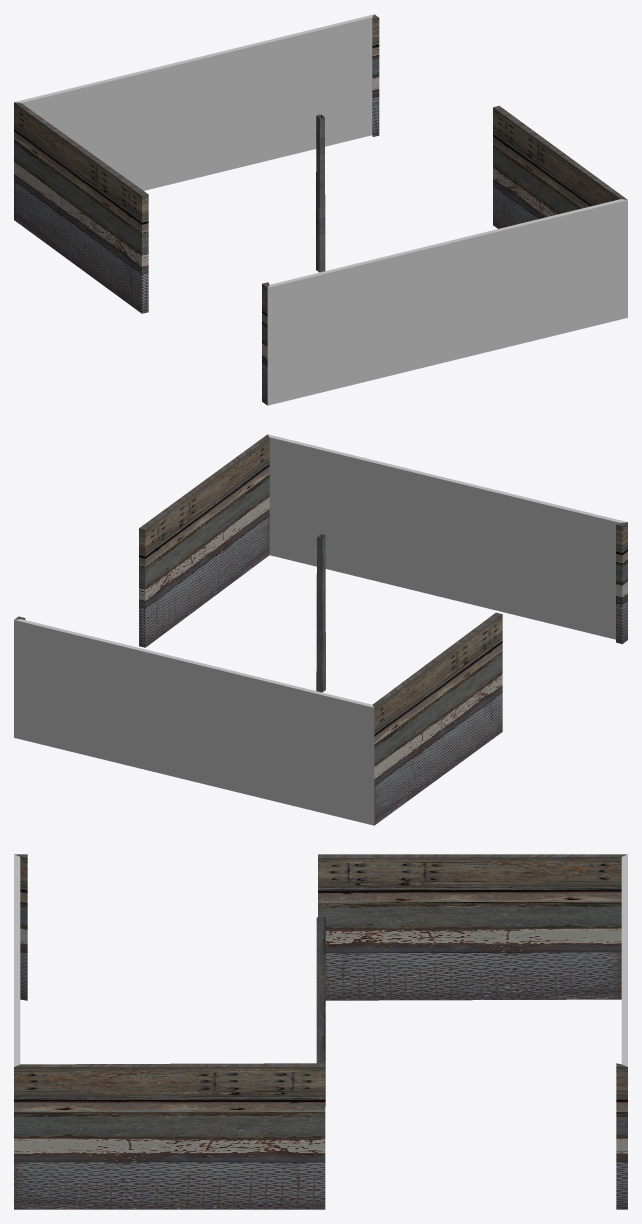
File: MetalShedB_CN.FBX
3 views of the same model, one above another, from view 1: azimuth 30°, elevation 25°; view 2: azimuth 150°, elevation 25°; view 3: azimuth 270°, elevation 25° (orthographic). The views are drawn at different scales.
Parts seen in each view (by area): view 1: MetalShedB; view 2: MetalShedB; view 3: MetalShedB.
Boxes of the visible parts, x1=… form: MetalShedB: x1=14, y1=14, x2=627, y2=405; MetalShedB: x1=14, y1=434, x2=627, y2=825; MetalShedB: x1=14, y1=854, x2=627, y2=1209.
Size of the model in its own units: 1237 by 507 by 1508.
